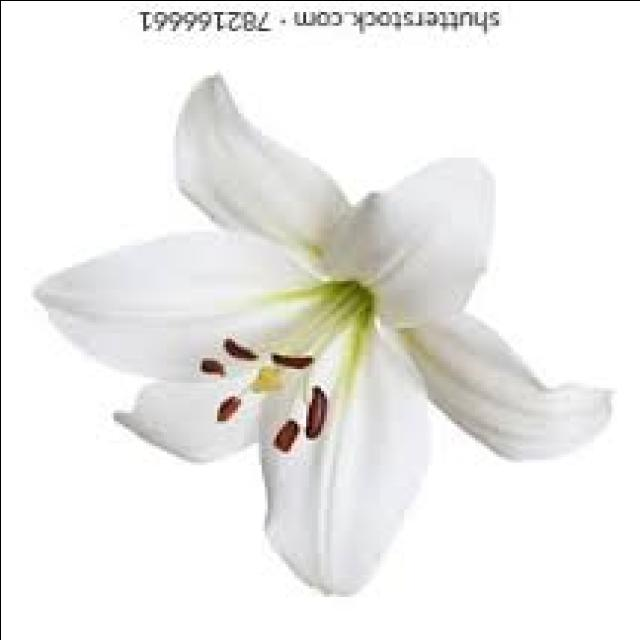lily: (0, 68, 624, 602)
